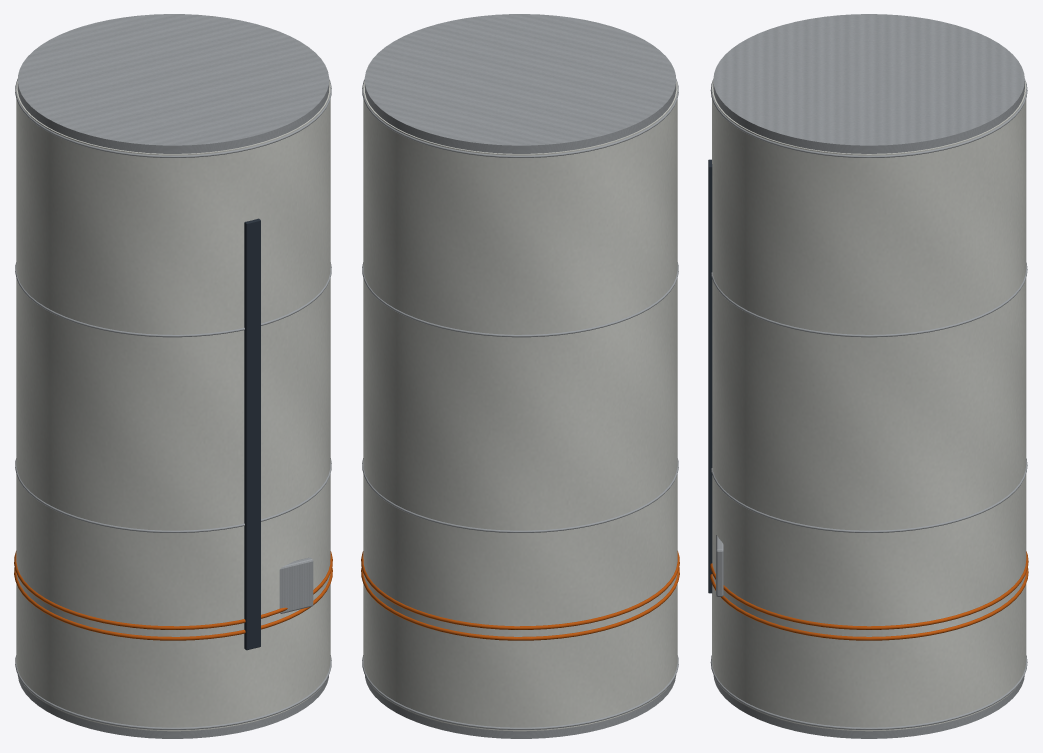
Rendered from first_stage_body.glb.
3 renders of one model, left to right at view 1: azimuth 30°, elevation 25°; view 2: azimuth 150°, elevation 25°; view 3: azimuth 270°, elevation 25°, orthographic.
Parts seen in each view (by area): view 1: Stage_PressureShell, Top_EndCap, Cable_Raceway, Base_EndCap, Access_Panel, Stage_IdentificationBand, Stage_IdentificationBand.001, Stage_WeldSeam.003, Stage_WeldSeam, Stage_WeldSeam.001, Stage_WeldSeam.002; view 2: Stage_PressureShell, Top_EndCap, Base_EndCap, Stage_IdentificationBand.001, Stage_IdentificationBand, Stage_WeldSeam.003, Stage_WeldSeam, Stage_WeldSeam.001, Stage_WeldSeam.002; view 3: Stage_PressureShell, Top_EndCap, Base_EndCap, Cable_Raceway, Stage_IdentificationBand, Stage_IdentificationBand.001, Stage_WeldSeam.003, Stage_WeldSeam, Stage_WeldSeam.002, Stage_WeldSeam.001.
Part boxes in pixels (x1,y1,x2,y2): Stage_PressureShell: (16,81,330,731); Top_EndCap: (17,14,329,153); Cable_Raceway: (244,218,260,650); Base_EndCap: (17,675,328,738); Access_Panel: (279,557,313,613); Stage_IdentificationBand: (14,567,332,640); Stage_IdentificationBand.001: (14,551,332,629); Stage_WeldSeam.003: (15,78,331,157); Stage_WeldSeam: (15,655,331,729); Stage_WeldSeam.001: (15,458,331,532); Stage_WeldSeam.002: (15,262,331,337); Stage_PressureShell: (363,81,677,731); Top_EndCap: (364,14,676,153); Base_EndCap: (365,675,676,738); Stage_IdentificationBand.001: (361,551,679,629); Stage_IdentificationBand: (361,567,679,640); Stage_WeldSeam.003: (362,78,678,157); Stage_WeldSeam: (362,655,678,729); Stage_WeldSeam.001: (362,458,678,532); Stage_WeldSeam.002: (362,262,678,337); Stage_PressureShell: (712,81,1026,731); Top_EndCap: (713,14,1024,153); Base_EndCap: (713,676,1024,738); Cable_Raceway: (708,159,712,593); Stage_IdentificationBand: (710,568,1028,640); Stage_IdentificationBand.001: (710,551,1028,629); Stage_WeldSeam.003: (710,79,1027,157); Stage_WeldSeam: (710,655,1027,729); Stage_WeldSeam.002: (711,262,1027,337); Stage_WeldSeam.001: (711,458,1027,532).
Bounding box in the file's own units: 2.44 × 5 × 2.45.
4 materials, 3 textured.
